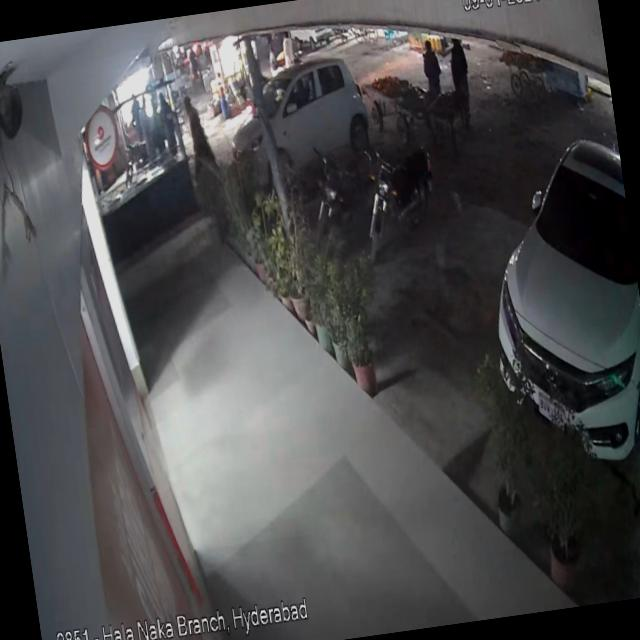Car: (467, 116, 640, 493), (221, 53, 395, 198)
Motorcycle: (358, 129, 448, 269), (309, 147, 381, 259)
